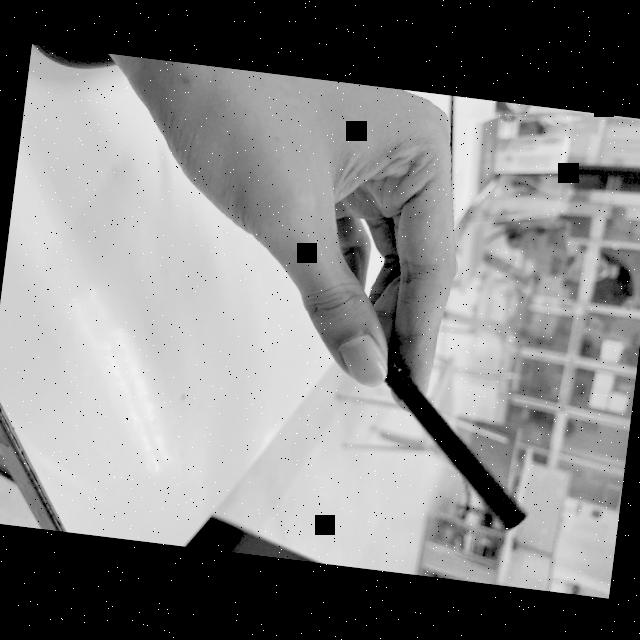straw: (345, 325, 554, 534)
